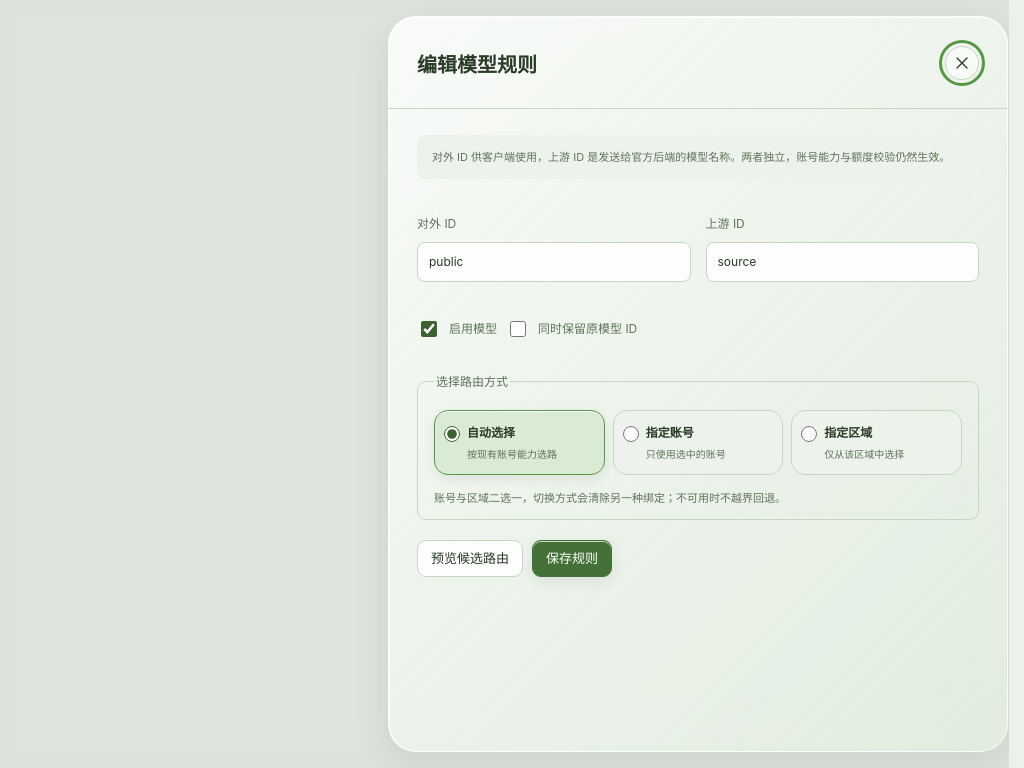
Test: independent model routes › aborts an unmounted preview and prevents edits or dismissal while submitting
Click the button "预览候选路由": (470, 558) [417, 540, 523, 577]
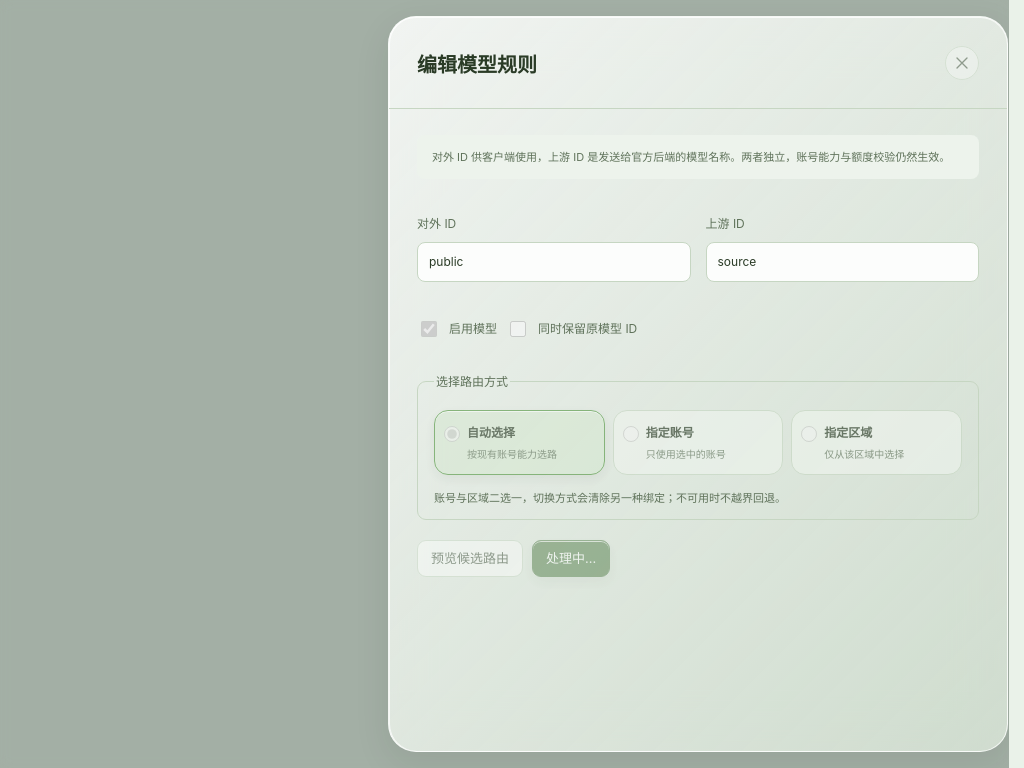
Check: the button named "关闭抽屉" is disabled, box [945, 46, 979, 80]
Check: the element labelled "上游 ID" is disabled, box [417, 195, 979, 540]
